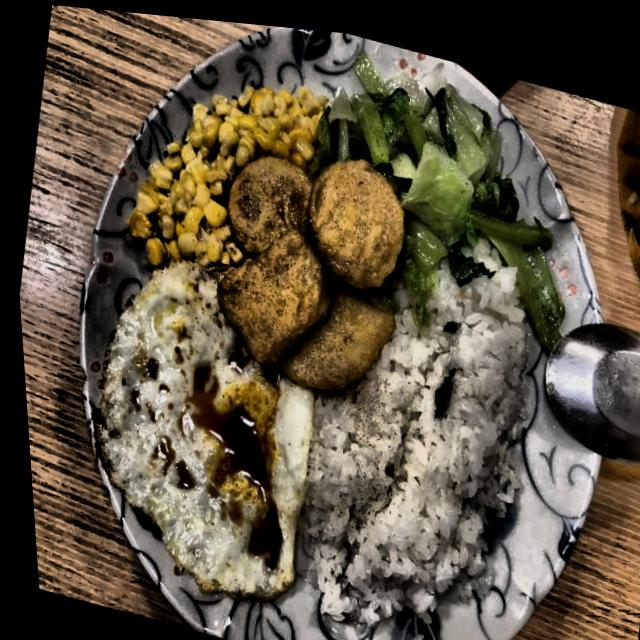Food: (55, 233, 341, 612), (268, 284, 541, 640), (193, 118, 423, 404)
